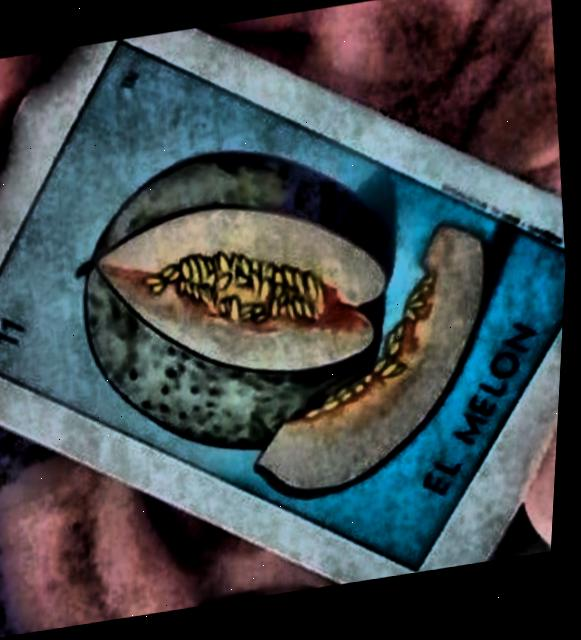El Melon: (0, 42, 569, 573)
